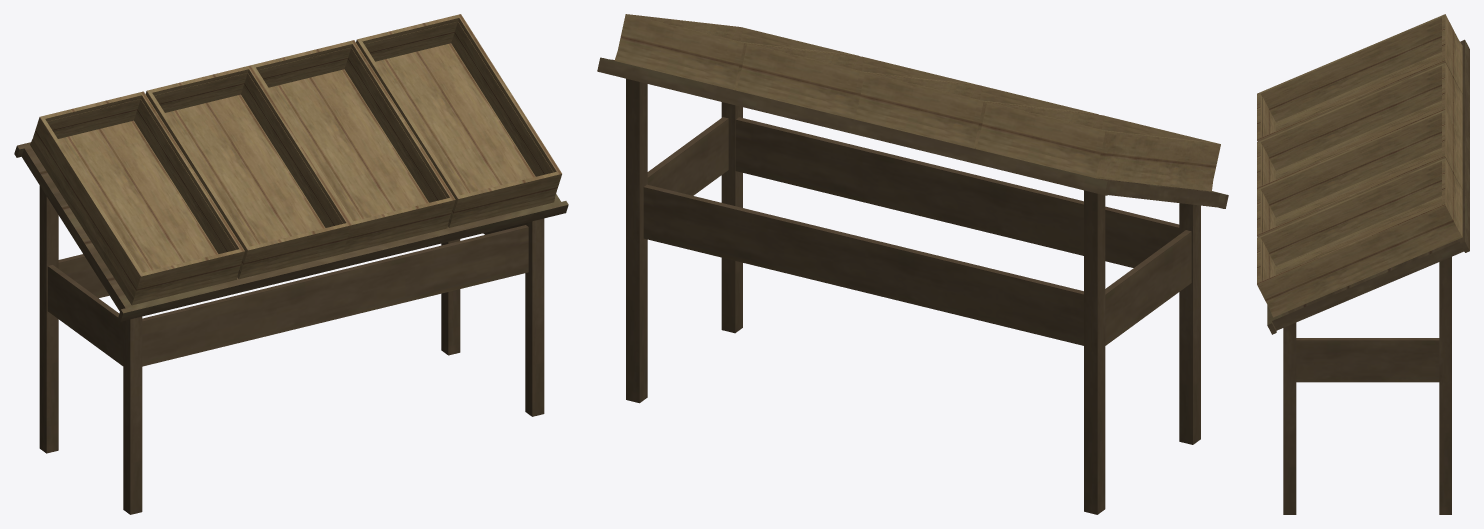
Rendered from food-display.glb.
3 renders of one model, left to right at view 1: azimuth 30°, elevation 25°; view 2: azimuth 150°, elevation 25°; view 3: azimuth 270°, elevation 25°, orthographic. The views are drawn at different scales.
Visible parts, largest first — view 1: food-display; view 2: food-display; view 3: food-display.
Boxes of the visible parts, x1,y1,x2,y2 form: food-display: (14,14,568,514); food-display: (597,14,1228,514); food-display: (1257,14,1469,514).
Bounding box in the file's own units: 1.84 × 1.32 × 0.8192.
Materials: 2 (2 with a texture image).
